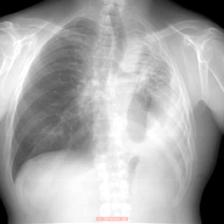tuberculosis: (10, 14, 202, 204)
